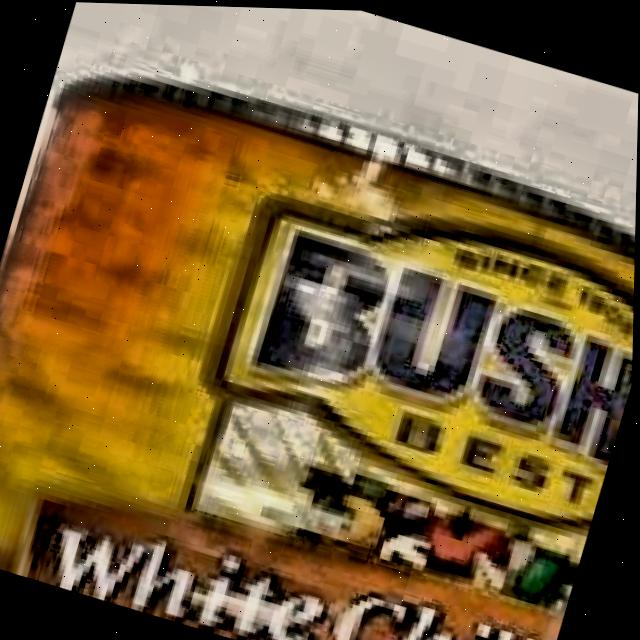metal: (0, 77, 636, 640)
